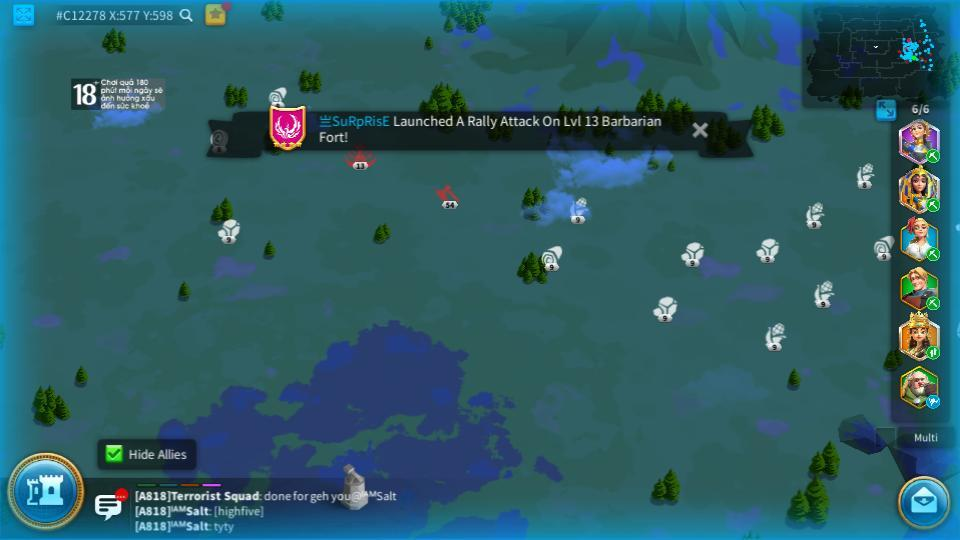march_idle: (925, 396, 941, 408)
march_marching: (925, 345, 941, 359), (924, 149, 939, 162), (925, 199, 941, 211), (926, 298, 941, 309)
